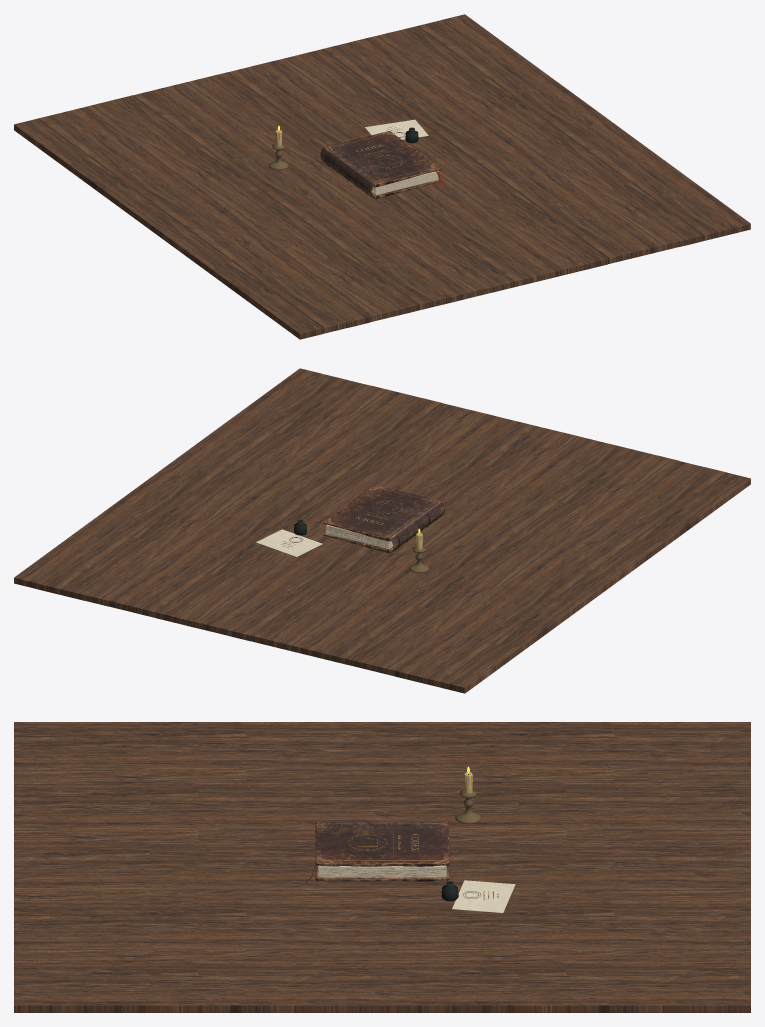
The model's file is scene_codex_v2.glb.
3 views of the same model, one above another, from view 1: azimuth 30°, elevation 25°; view 2: azimuth 150°, elevation 25°; view 3: azimuth 270°, elevation 25° (orthographic). The views are drawn at different scales.
Visible parts, largest first — view 1: Web Smoked walnut • long grain, Front cover, Web Warm rag paper, Web Leather turned over the board edges; view 2: Web Smoked walnut • long grain, Front cover, Web Warm rag paper, Web Leather turned over the board edges; view 3: Web Smoked walnut • long grain, Front cover, Web Warm rag paper, Back board, Web Aged brass.
Part boxes in pixels (left/top/right/bottom): Web Smoked walnut • long grain: left=14, top=14, right=750, bottom=339; Front cover: left=323, top=131, right=441, bottom=187; Web Warm rag paper: left=365, top=119, right=438, bottom=194; Web Leather turned over the board edges: left=320, top=148, right=374, bottom=199; Web Smoked walnut • long grain: left=14, top=368, right=750, bottom=693; Front cover: left=323, top=485, right=441, bottom=541; Web Warm rag paper: left=256, top=526, right=393, bottom=556; Web Leather turned over the board edges: left=390, top=502, right=444, bottom=553; Web Smoked walnut • long grain: left=14, top=722, right=750, bottom=1012; Front cover: left=315, top=822, right=449, bottom=866; Web Warm rag paper: left=319, top=866, right=515, bottom=912; Back board: left=315, top=865, right=449, bottom=881; Web Aged brass: left=446, top=790, right=481, bottom=885.
Bounding box in the file's own units: 21.85 × 2.18 × 24.
25 materials, 5 textured.
